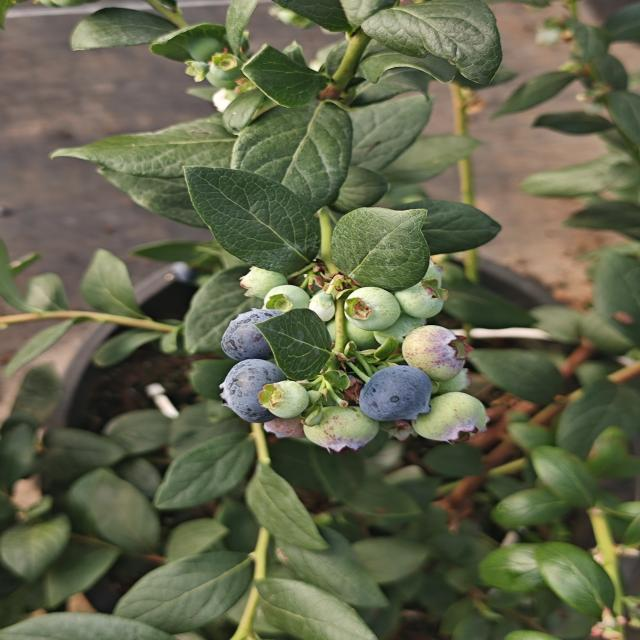ripe: (206, 357, 295, 425), (356, 361, 434, 425), (212, 307, 297, 364)
